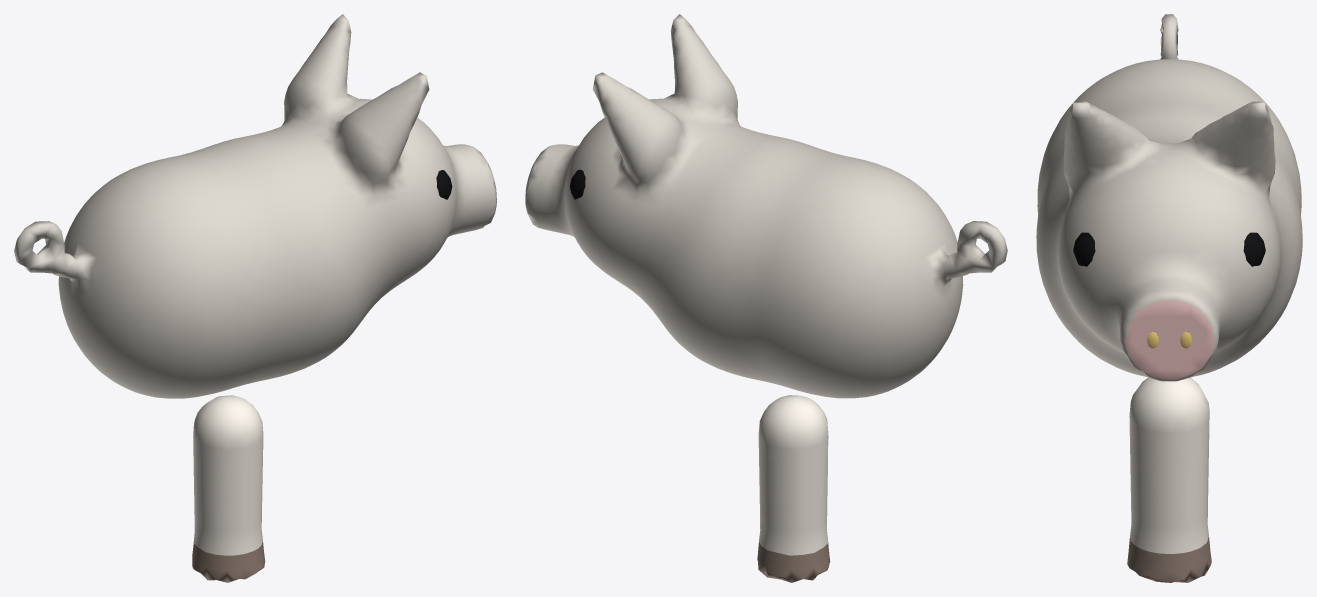
The model's file is pig_adult.glb.
3 renders of one model, left to right at view 1: azimuth 30°, elevation 25°; view 2: azimuth 150°, elevation 25°; view 3: azimuth 270°, elevation 25°, orthographic. The views are drawn at different scales.
Parts seen in each view (by area): view 1: body, leg; view 2: body, leg; view 3: body, leg, eye.
Part boxes in pixels (<box>): body: <box>14,14,496,398</box>; leg: <box>192,395,265,582</box>; body: <box>525,14,1007,398</box>; leg: <box>757,395,830,582</box>; body: <box>1036,14,1302,381</box>; leg: <box>1127,377,1211,582</box>; eye: <box>1073,232,1265,266</box>.
Bounding box in the file's own units: 2.57 × 2.59 × 1.13.
